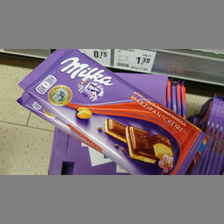chocolate: (24, 50, 208, 175)
